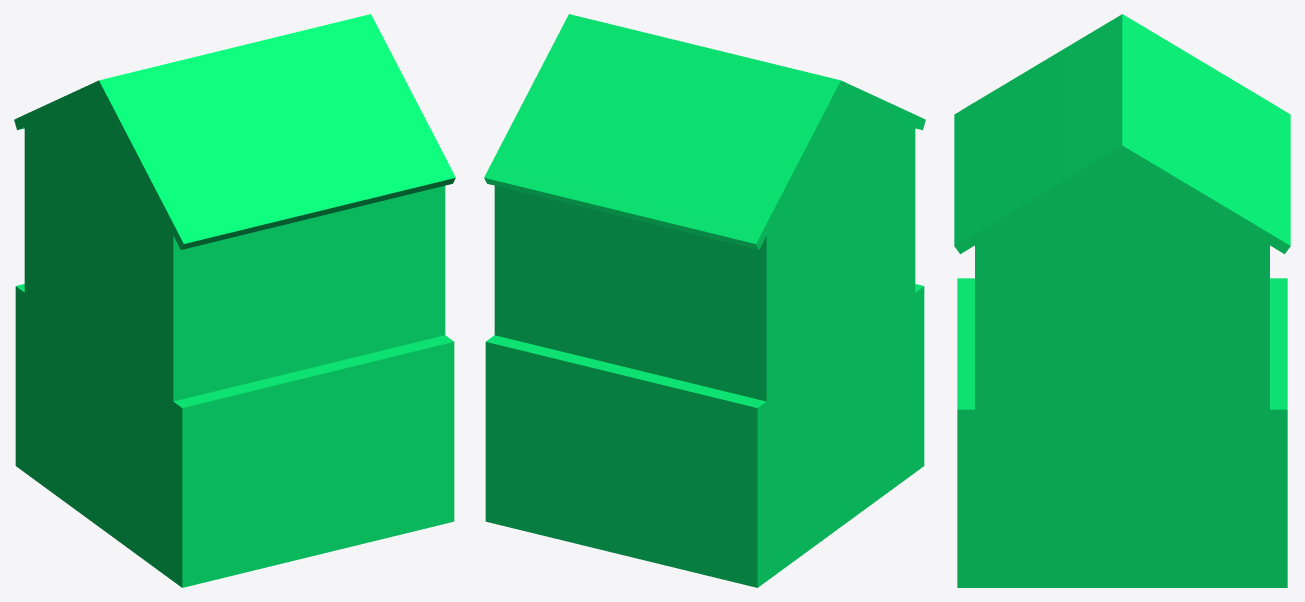
The model's file is Garnison5_Collision.FBX.
3 renders of one model, left to right at view 1: azimuth 30°, elevation 25°; view 2: azimuth 150°, elevation 25°; view 3: azimuth 270°, elevation 25°, orthographic.
Parts seen in each view (by area): view 1: Garnison5_Collision; view 2: Garnison5_Collision; view 3: Garnison5_Collision.
Boxes of the visible parts, x1=… form: Garnison5_Collision: x1=14, y1=14, x2=455, y2=587; Garnison5_Collision: x1=484, y1=14, x2=925, y2=587; Garnison5_Collision: x1=954, y1=14, x2=1290, y2=587.
Size of the model in its own units: 9.76 by 15.31 by 10.56.
